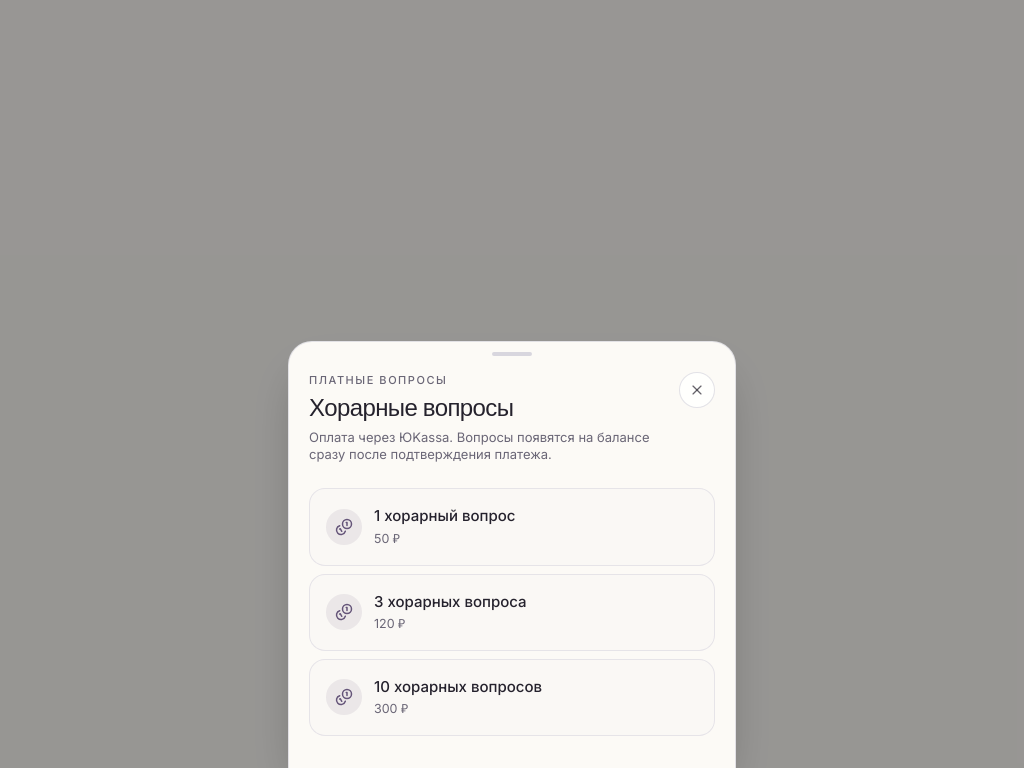
HoraryPurchaseSheet › canceled terminal status keeps the sheet open with an honest error
Click the button with test id "horary-pack-horary_1" at {"x": 512, "y": 527}, box [309,488,715,566]
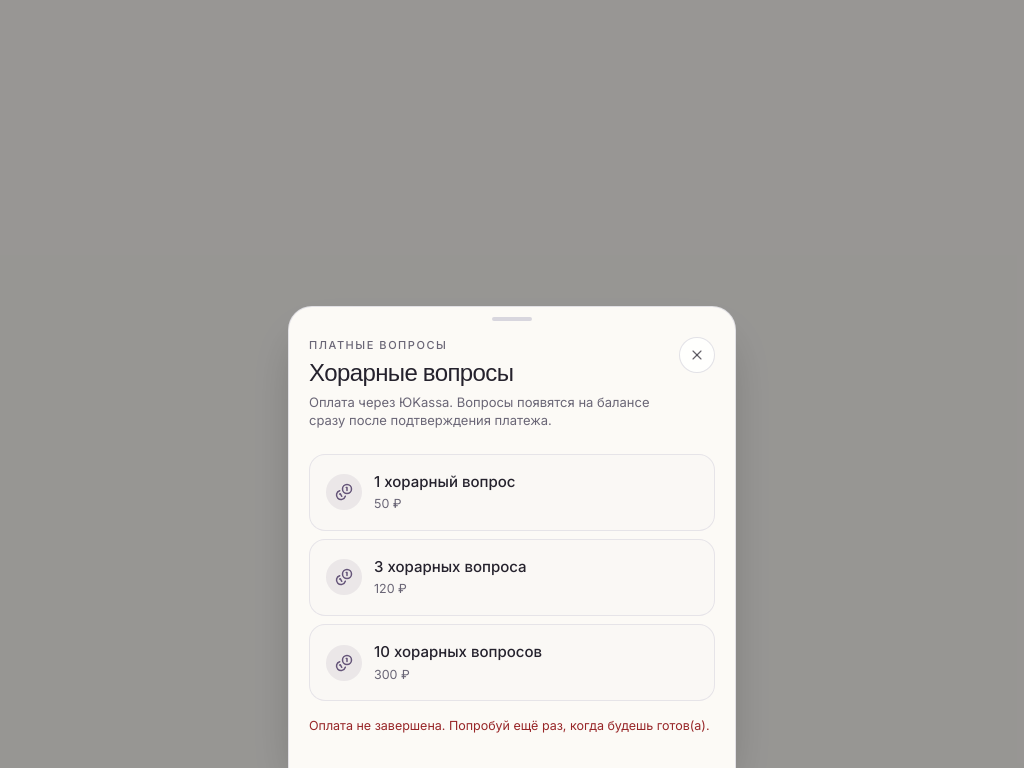
Expected: the message "Оплата не завершена. Попробуй ещё раз, когда будешь готов(а)." is shown, [309,717,715,736]
